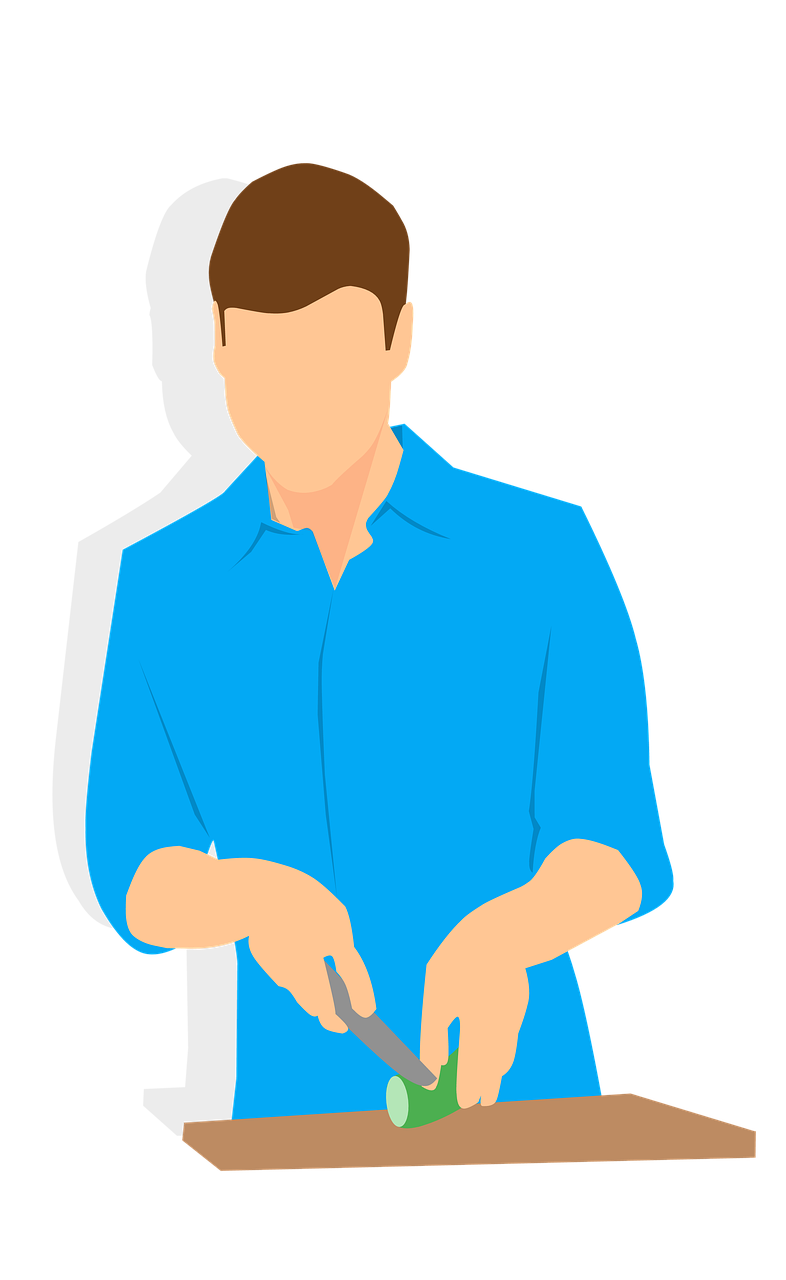knife: (282, 942, 451, 1105)
